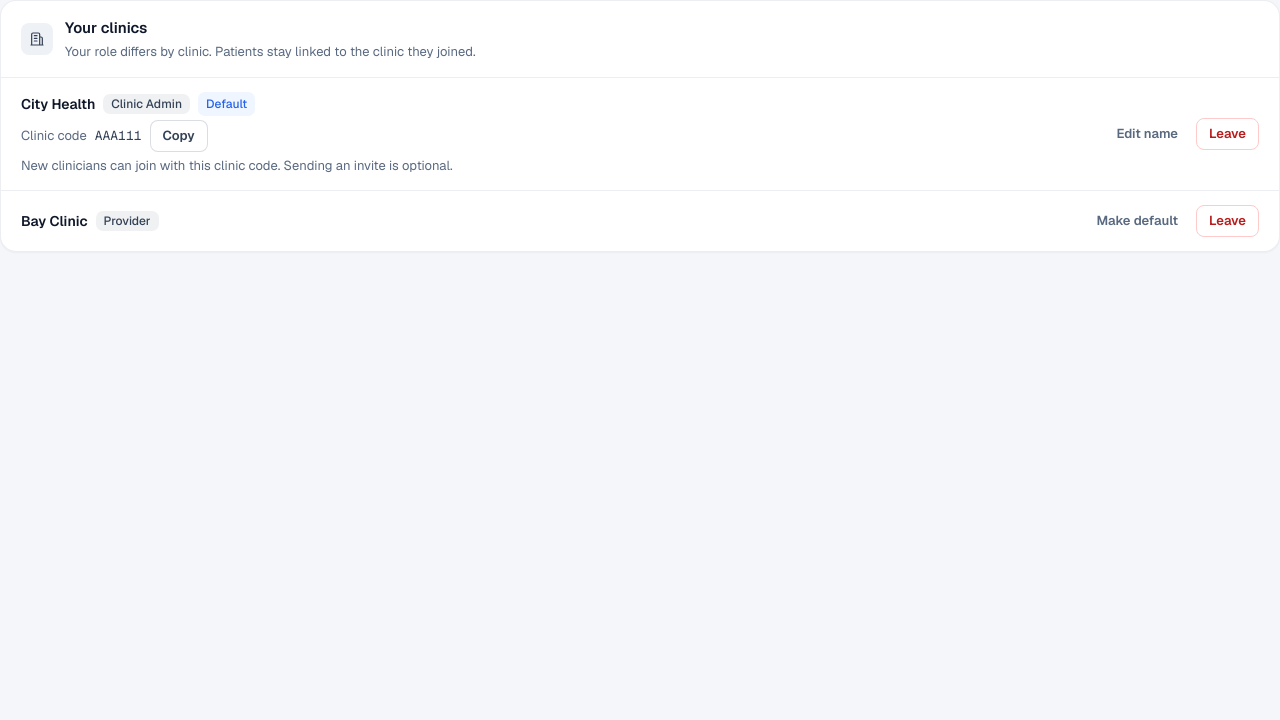
Your clinics card › explains what leaving does, then leaves only after confirmation
The width and height of the screenshot is (1280, 720).
Click the button with aria-label "Leave Bay Clinic" at (1228, 220), box [1196, 204, 1259, 236]
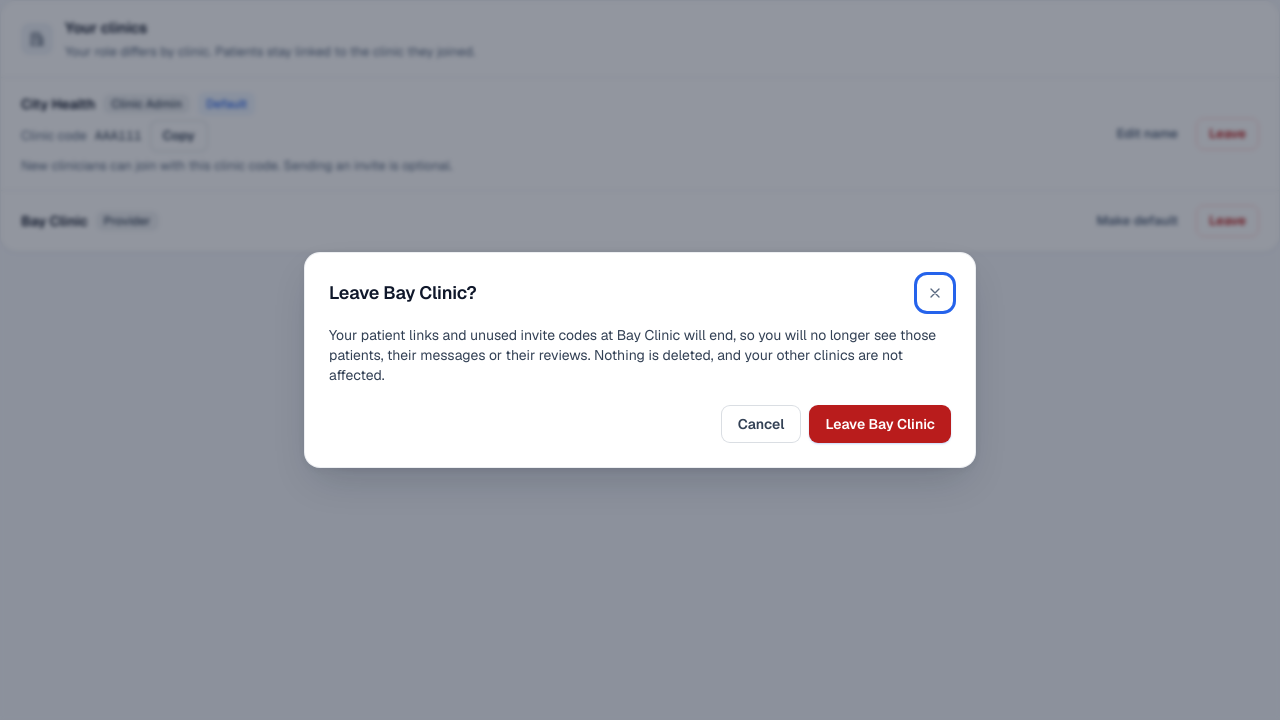
expect the dialog shows "patient links and unused invite codes at Bay Clinic will end": met, box [304, 252, 976, 468]
expect the dialog shows "nothing is deleted": met, box [329, 326, 936, 384]
Click the button "Leave Bay Clinic" at (880, 424), box [809, 405, 951, 443]
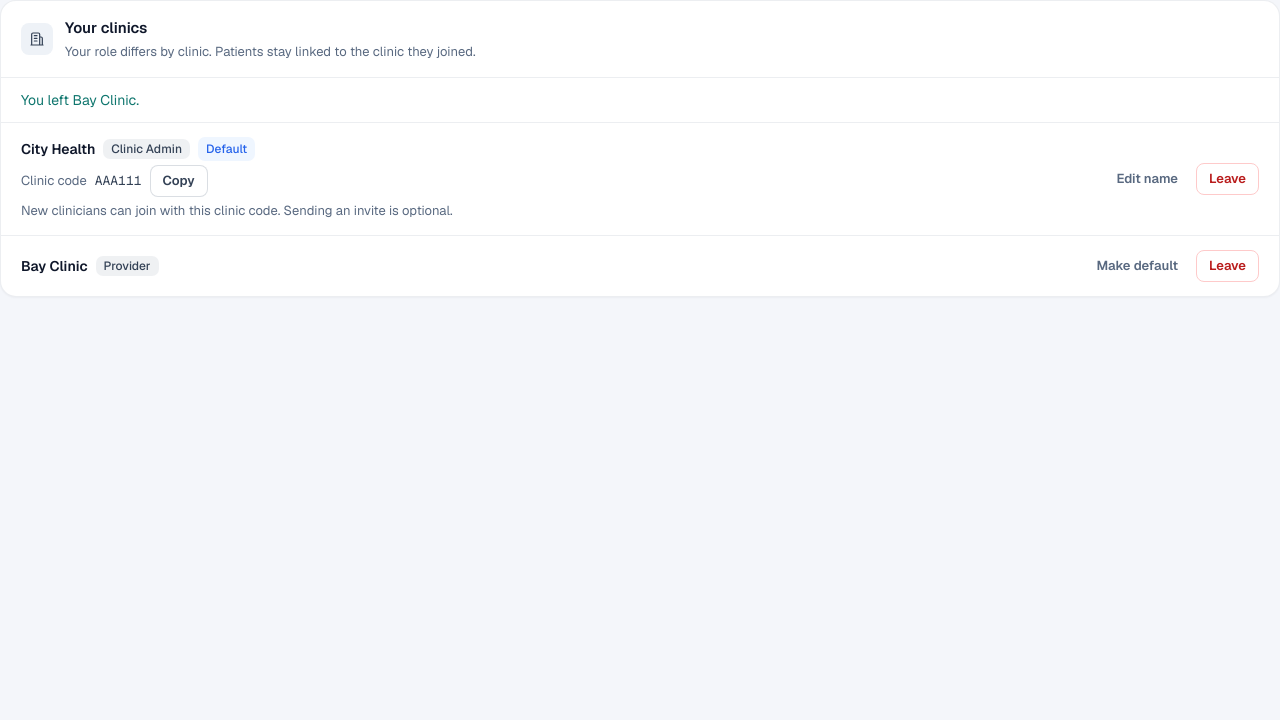
expect the text "You left Bay Clinic." is shown: met, box [1, 78, 1279, 123]
